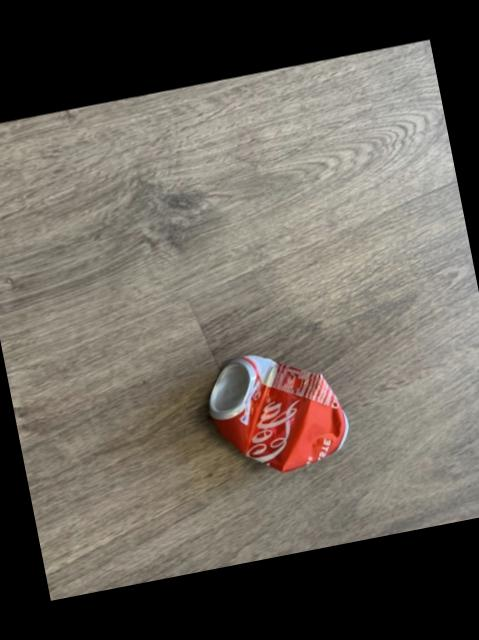metal: (207, 355, 345, 471)
